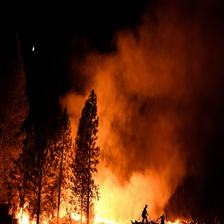fire: (16, 125, 125, 223)
